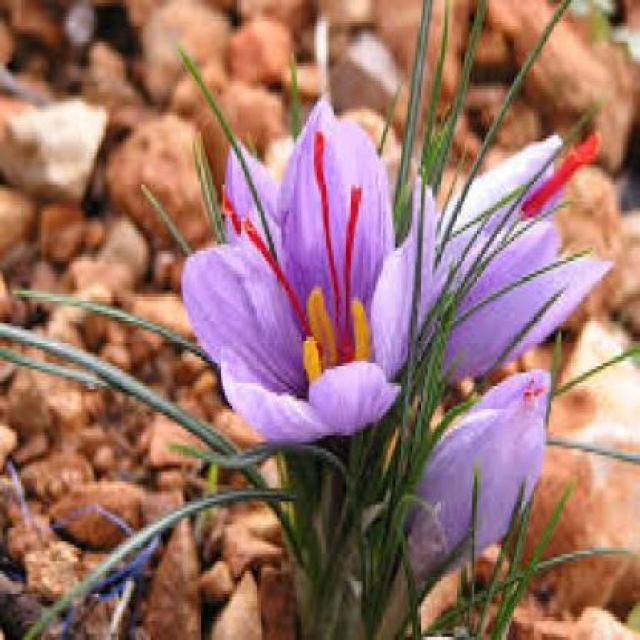Flower: (189, 111, 429, 434)
stigma: (216, 186, 311, 334), (308, 126, 346, 343), (523, 124, 604, 217), (339, 182, 374, 360)
